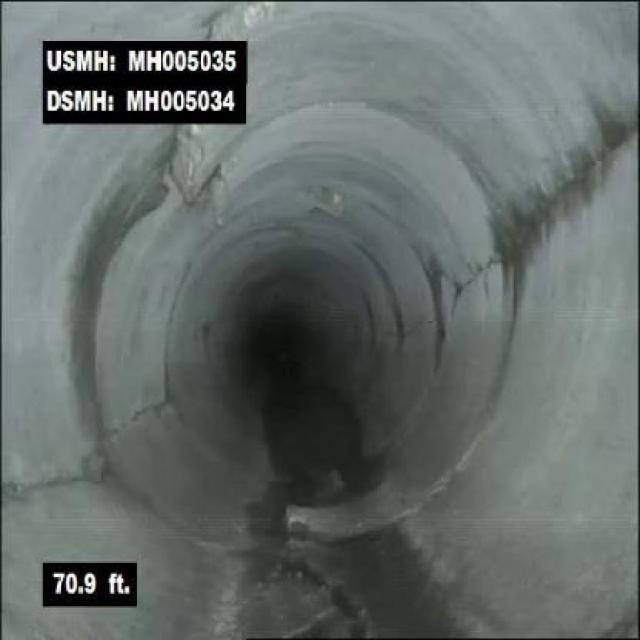Buckling: (164, 1, 274, 228), (277, 498, 375, 638)
Crack: (514, 119, 628, 238), (90, 395, 176, 448), (0, 461, 112, 500)
